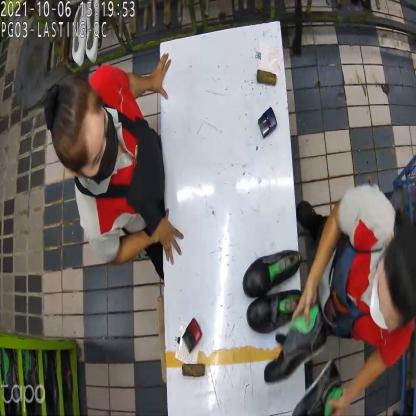shoes: (263, 320, 347, 416), (242, 247, 308, 334)
stamp: (180, 318, 203, 353), (258, 105, 277, 138)
